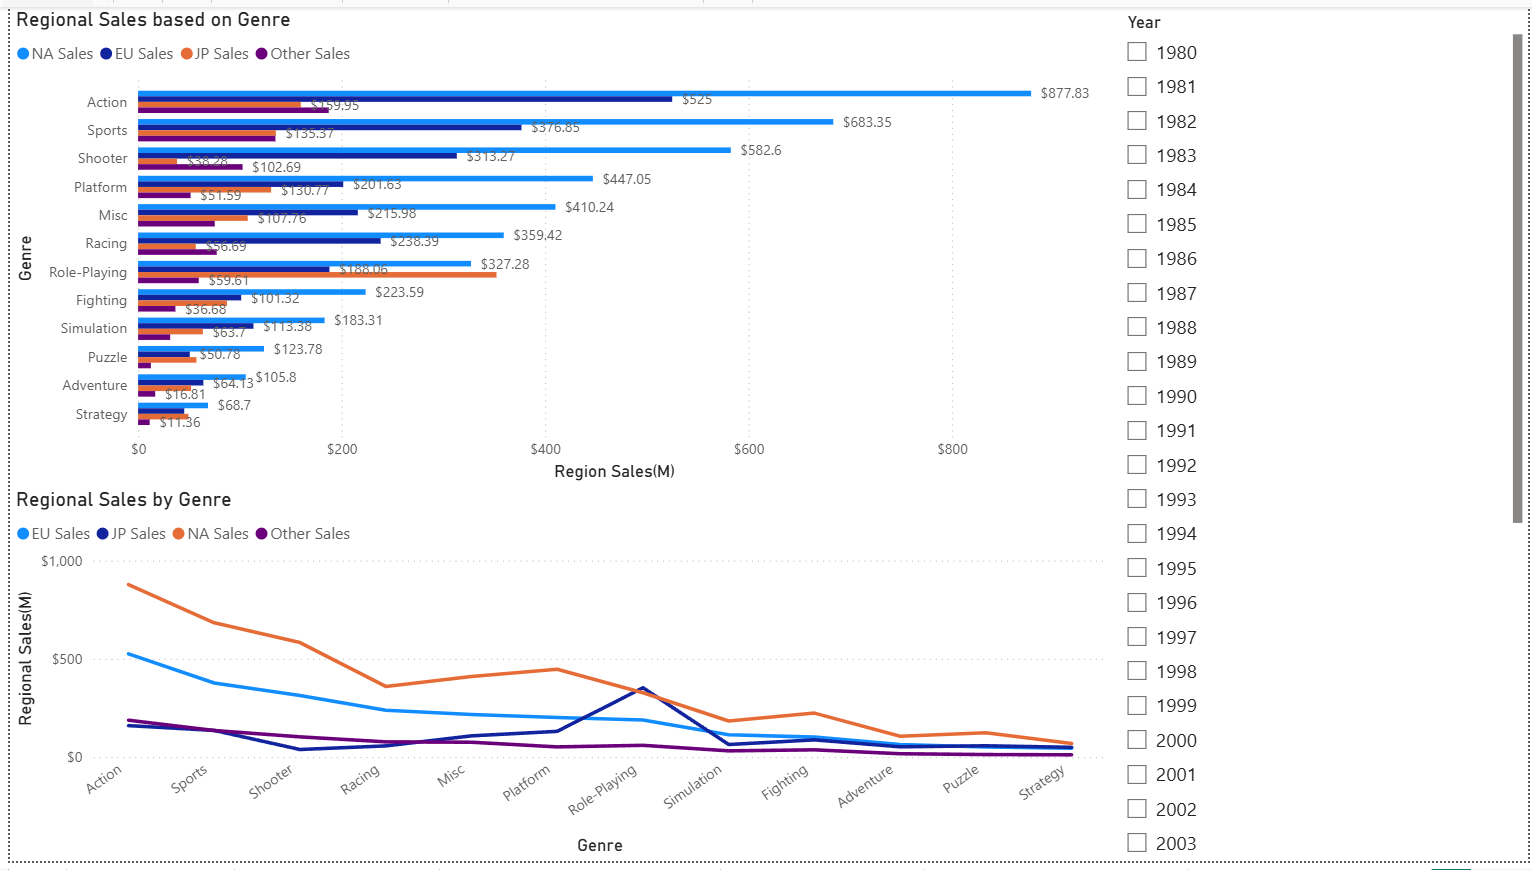

Layout of this report page (visuals, bound fields, positions):
{"tool":"powerbi","page":{"name":"Genre performance by Region","canvas":[1280,720],"ordinal":2},"visuals":[{"type":"clusteredBarChart","title":"Regional  Sales based on Genre","fields":{"Category":["vgsales.Genre"],"Y":["Sum(vgsales.NA_Sales)","Sum(vgsales.EU_Sales)","Sum(vgsales.JP_Sales)","Sum(vgsales.Other_Sales)"]},"box":[0,0,928.9,404.6],"z":0},{"type":"slicer","fields":{"Values":["vgsales.Year"]},"box":[928.9,0,351.1,719.8],"z":1001},{"type":"lineChart","title":"Regional Sales by Genre","fields":{"Category":["vgsales.Genre"],"Y":["Sum(vgsales.EU_Sales)","Sum(vgsales.JP_Sales)","Sum(vgsales.NA_Sales)","Sum(vgsales.Other_Sales)"]},"box":[0,405,929,315],"z":1002}]}

Visuals, with their boxes on the page's 1280x720 design canvas (x1, y1, x2, y2). These are canvas units, not pixel positions in the 1532x870 screenshot, which may show the page scaled, cropped or inside an application window:
"Regional  Sales based on Genre" clusteredBarChart: box=[0, 0, 929, 405]
slicer - vgsales.Year: box=[929, 0, 1280, 720]
"Regional Sales by Genre" lineChart: box=[0, 405, 929, 720]
